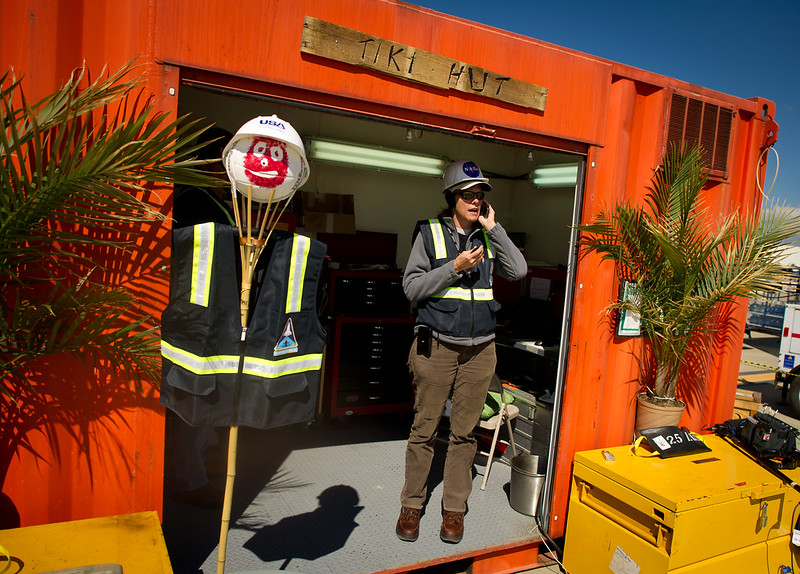phone: (478, 196, 494, 221)
